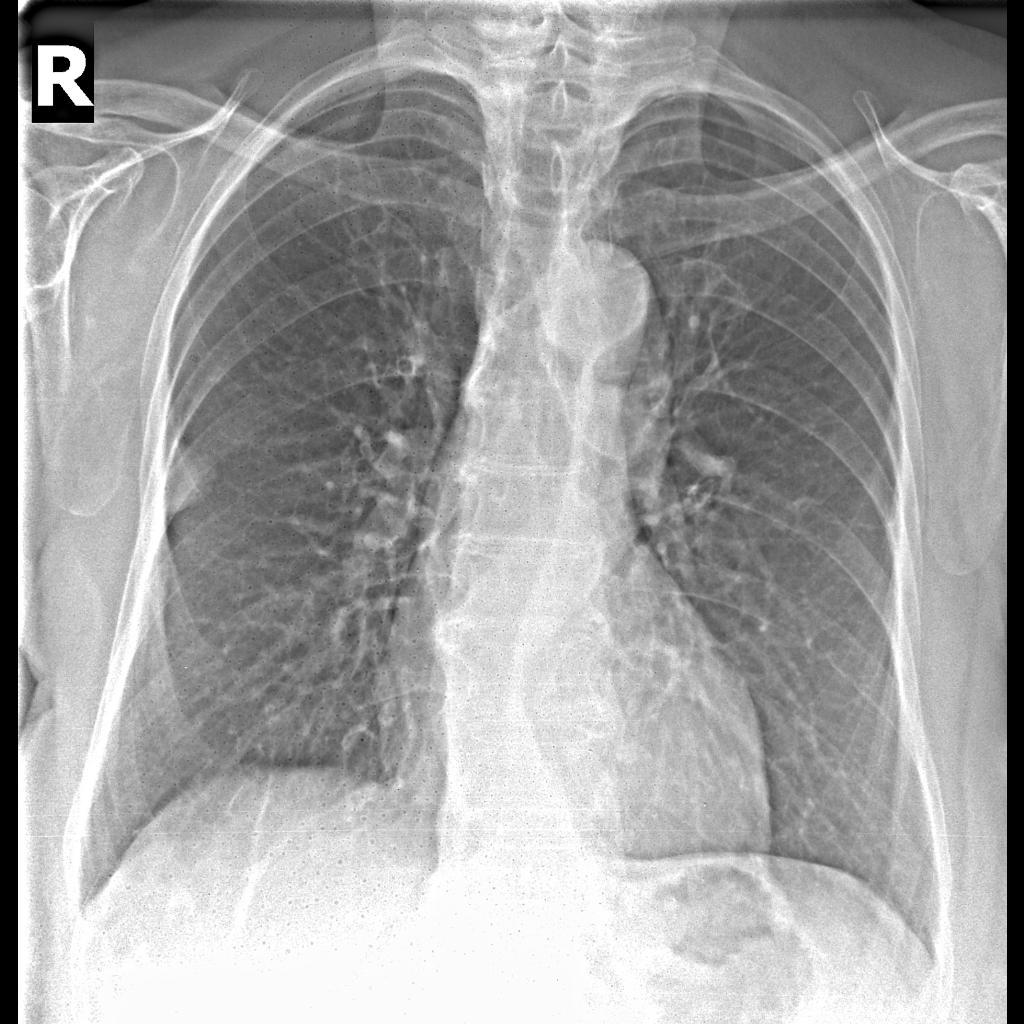Nodule: (153, 427, 217, 527)
